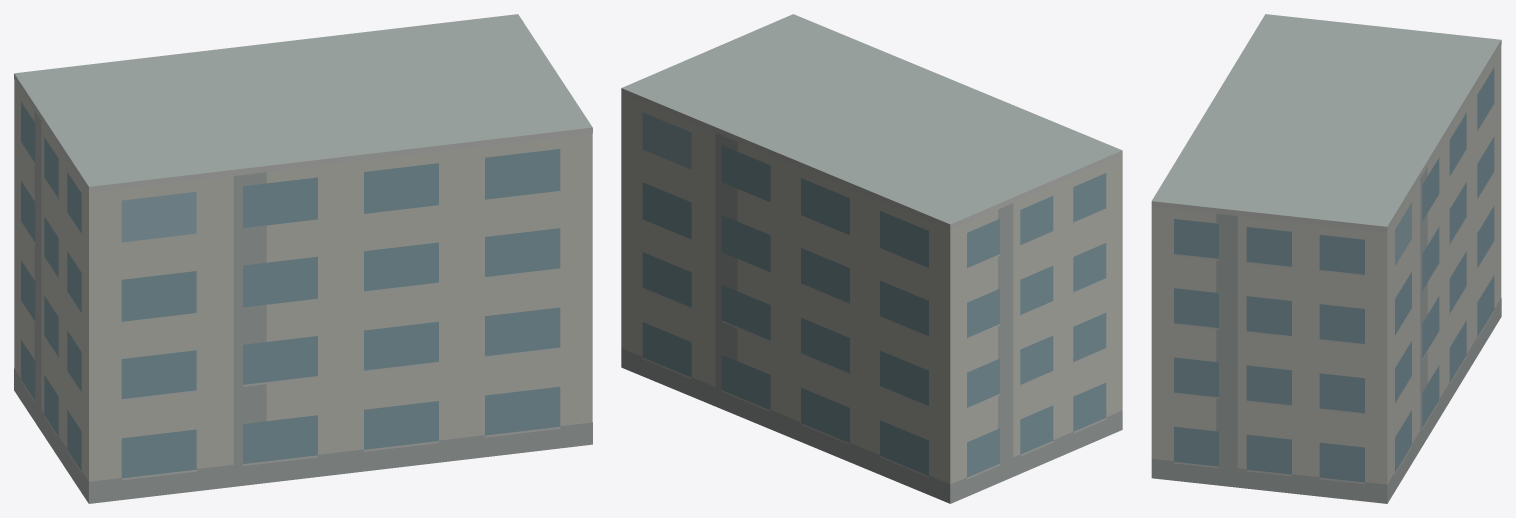
The model's file is residential-e494a1ea-ff27-4d39-9d0e-30bbb753c3a2.glb.
3 views of the same model, side by side, from view 1: azimuth 30°, elevation 25°; view 2: azimuth 150°, elevation 25°; view 3: azimuth 270°, elevation 25° (orthographic). The views are drawn at different scales.
Visible parts, largest first — view 1: residential-e494a1ea-ff27-4d39-9d0e-30bbb753c3a2.tmp; view 2: residential-e494a1ea-ff27-4d39-9d0e-30bbb753c3a2.tmp; view 3: residential-e494a1ea-ff27-4d39-9d0e-30bbb753c3a2.tmp.
Boxes of the visible parts, x1,y1,x2,y2 form: residential-e494a1ea-ff27-4d39-9d0e-30bbb753c3a2.tmp: (14,14,592,503); residential-e494a1ea-ff27-4d39-9d0e-30bbb753c3a2.tmp: (621,14,1122,503); residential-e494a1ea-ff27-4d39-9d0e-30bbb753c3a2.tmp: (1151,14,1501,503).
Size of the model in its own units: 20.1 by 12.2 by 13.97.
